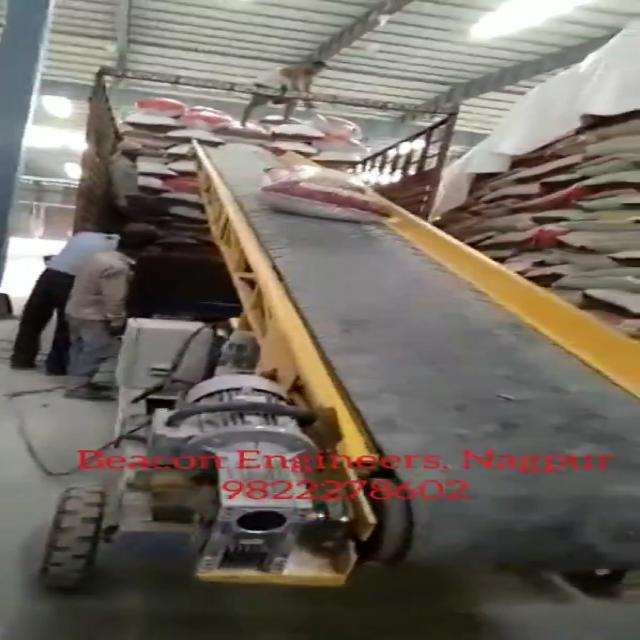Convoyeur: (182, 133, 640, 577)
